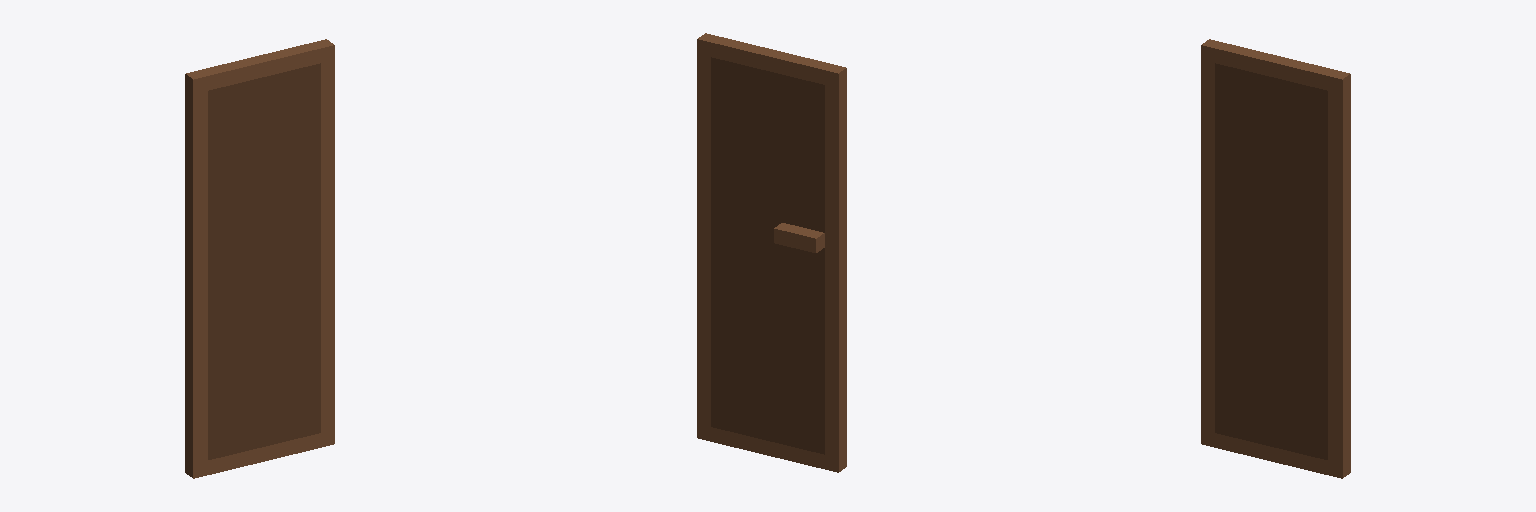
The picture shows the model from 3 angles: view 1: azimuth 30°, elevation 25°; view 2: azimuth 150°, elevation 25°; view 3: azimuth 330°, elevation 25°; orthographic projection.
Parts seen in each view (by area): view 1: object 1; view 2: object 1; view 3: object 1.
Part boxes in pixels (bbox=[...]): object 1: bbox=[185, 39, 334, 478]; object 1: bbox=[697, 33, 846, 472]; object 1: bbox=[1201, 39, 1350, 478].
Size of the model in its own units: 1 by 2.7 by 0.2.
Materials: 1 (1 with a texture image).